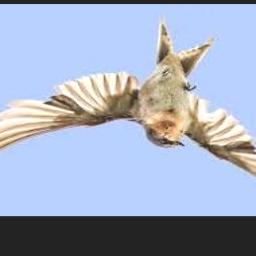Swallow: (0, 16, 256, 210)
